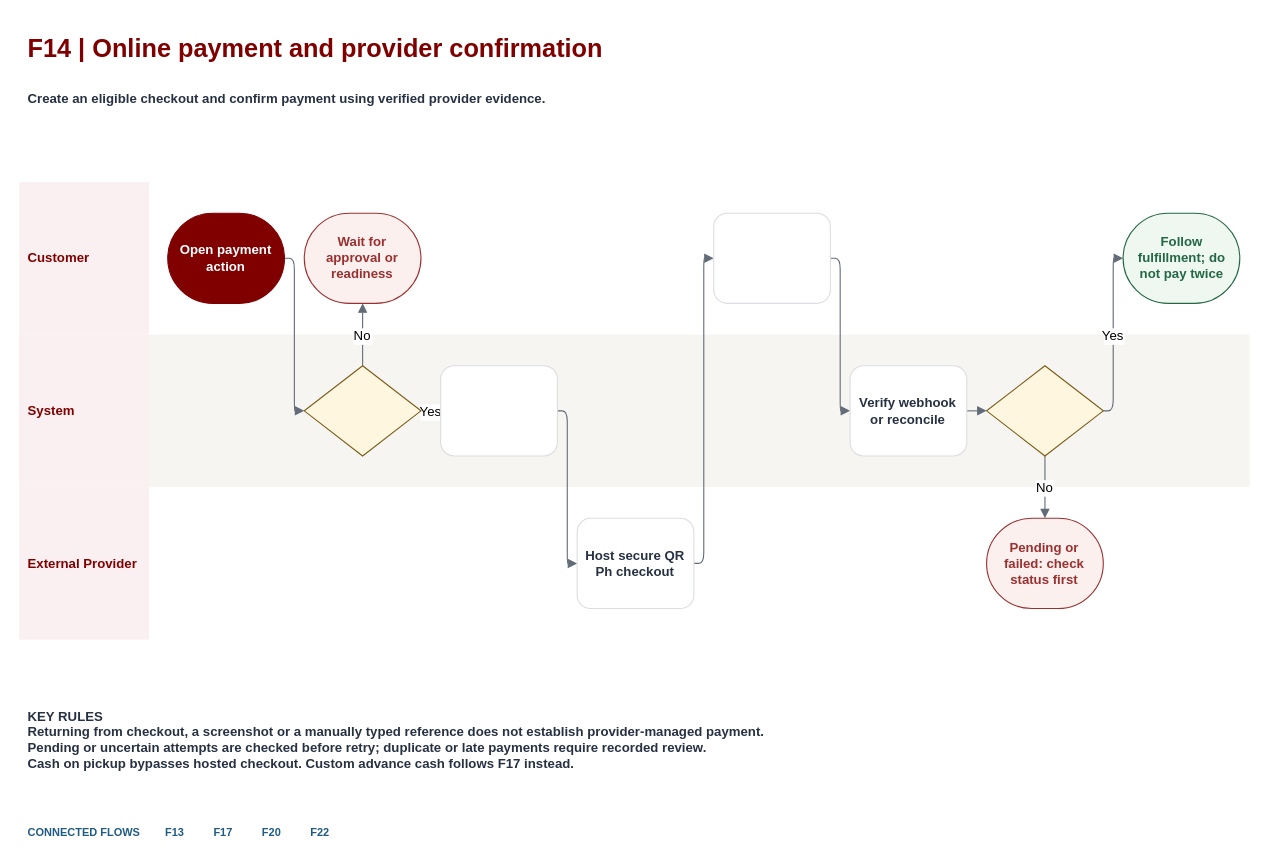
The diagram is 1268 pixels wide and 860 high, and some of its shapes have lost their labels. The centre of each missing label's shape, as x and y in pixels:
"Authorize payment; return" goes at [771,257].
"Confirmed full payment?" goes at [1044,410].
"Create or reuse checkout attempt" goes at [498,410].
"Payment eligible?" goes at [362,410].
